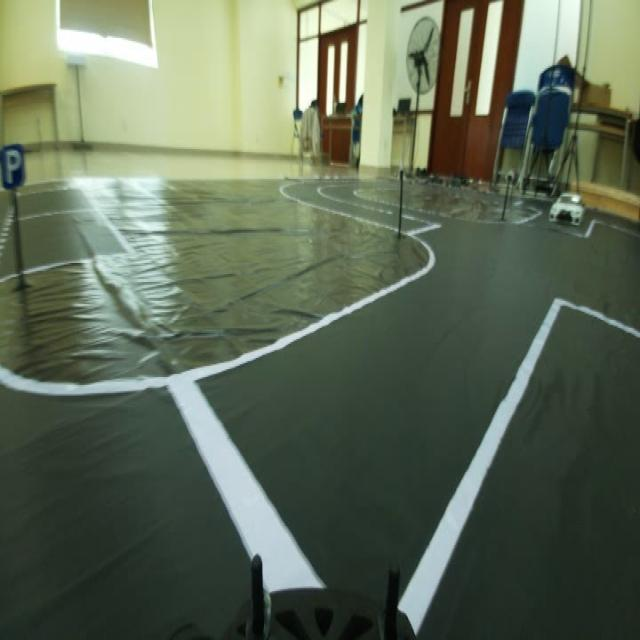parking: (1, 126, 27, 194)
